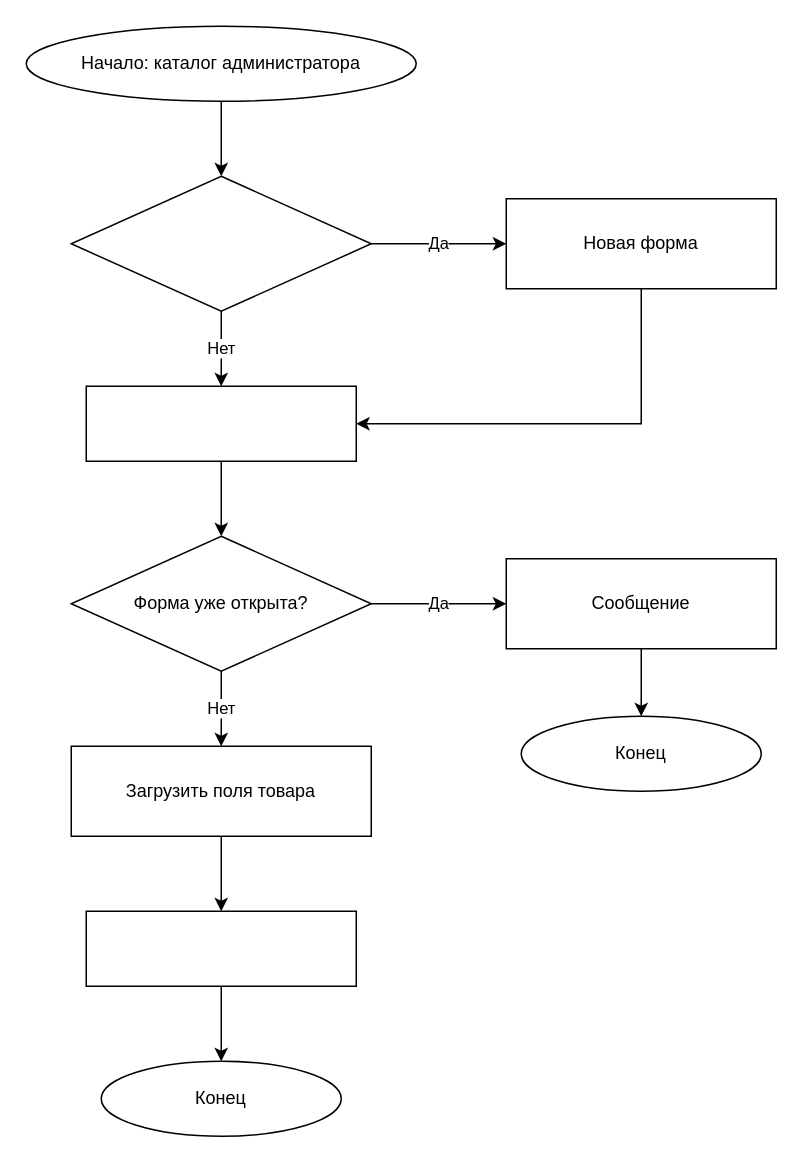
Image size: 803x1163. Some labels were removed from this diagram. The shapes that lost their labels are listed below. From the top down, each one's box as (x1, y1, x2, y2) in pixels, then its label:
(70, 175, 371, 311): «Добавить товар»?
(85, 385, 356, 461): Выбран товар
(85, 910, 356, 986): Открыть форму
